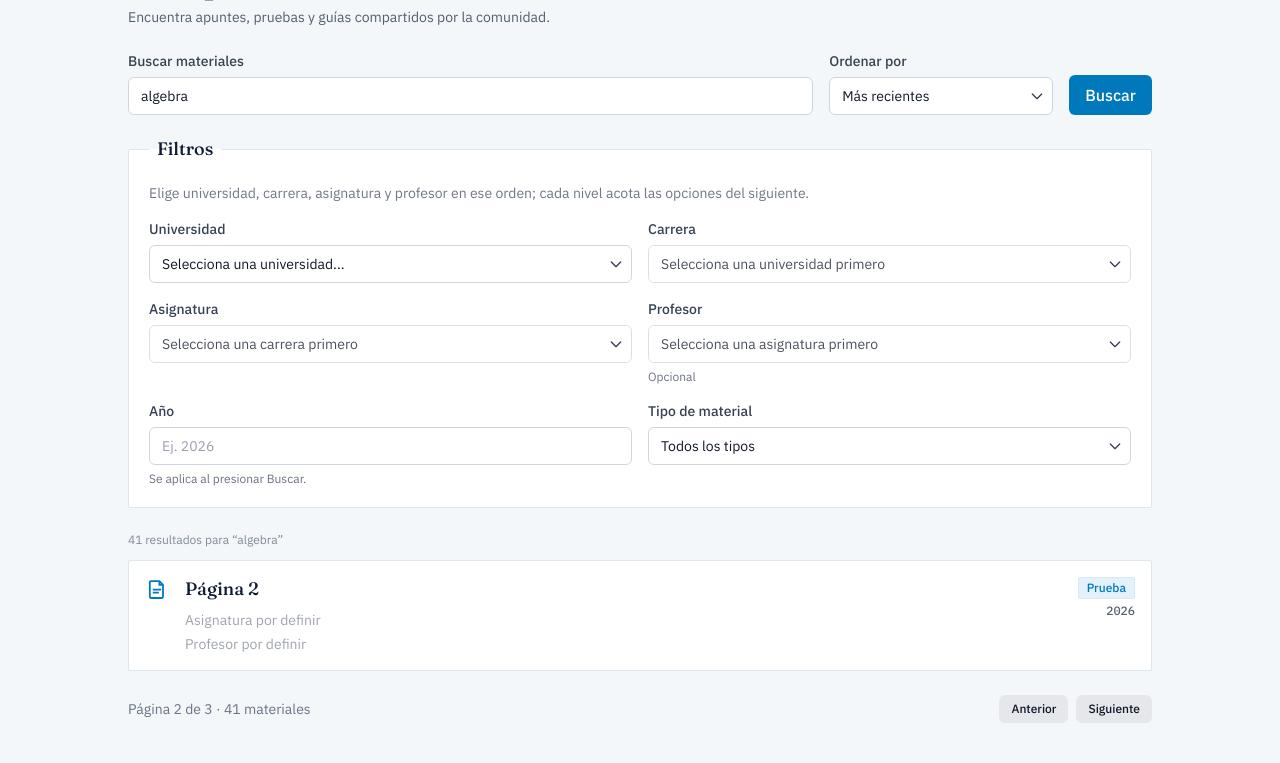
SearchPage › paginación › retrocede de página pidiendo la anterior al backend
(page scrolled)
Expected: the heading "Página 2" is shown, [185,577,259,600]
Step 1. Click the button "Anterior" → (1034, 709), box [1000,695,1068,723]
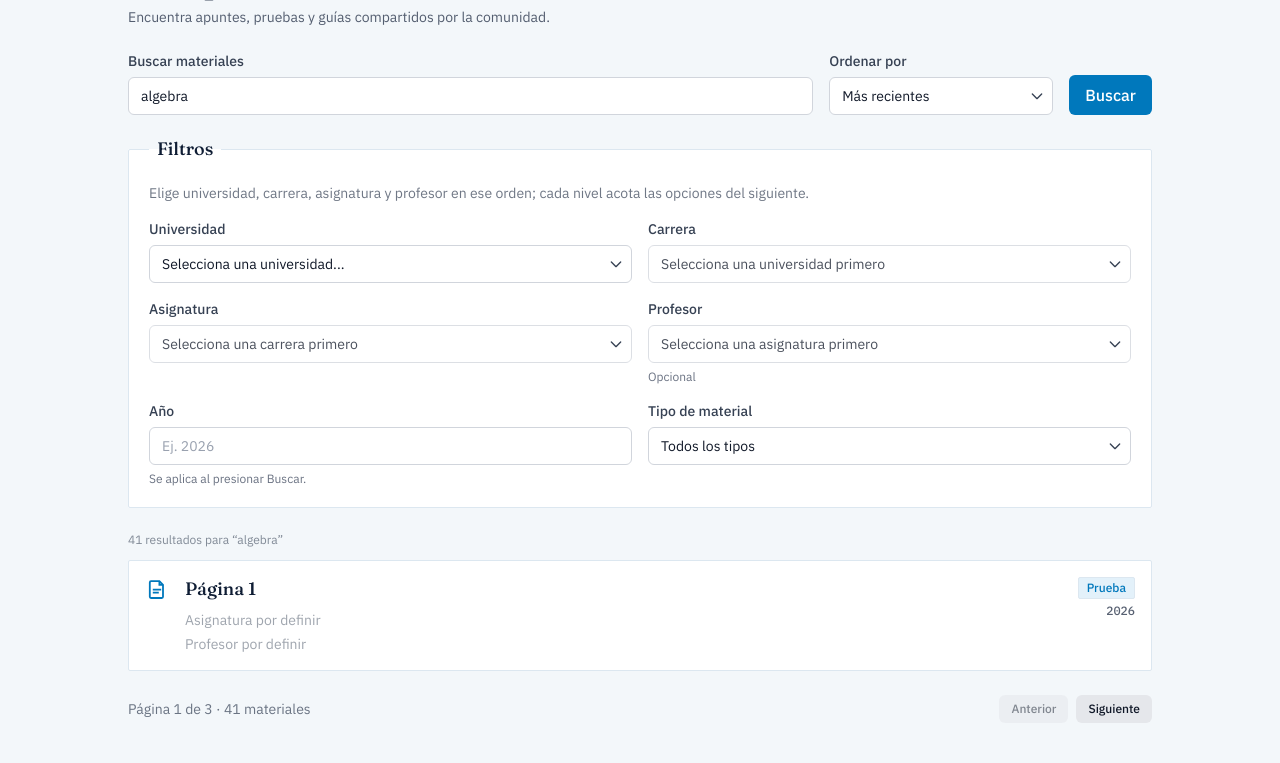
Now the heading "Página 1" is shown, box [185,577,256,600]
Now the link "Página 2" is gone
